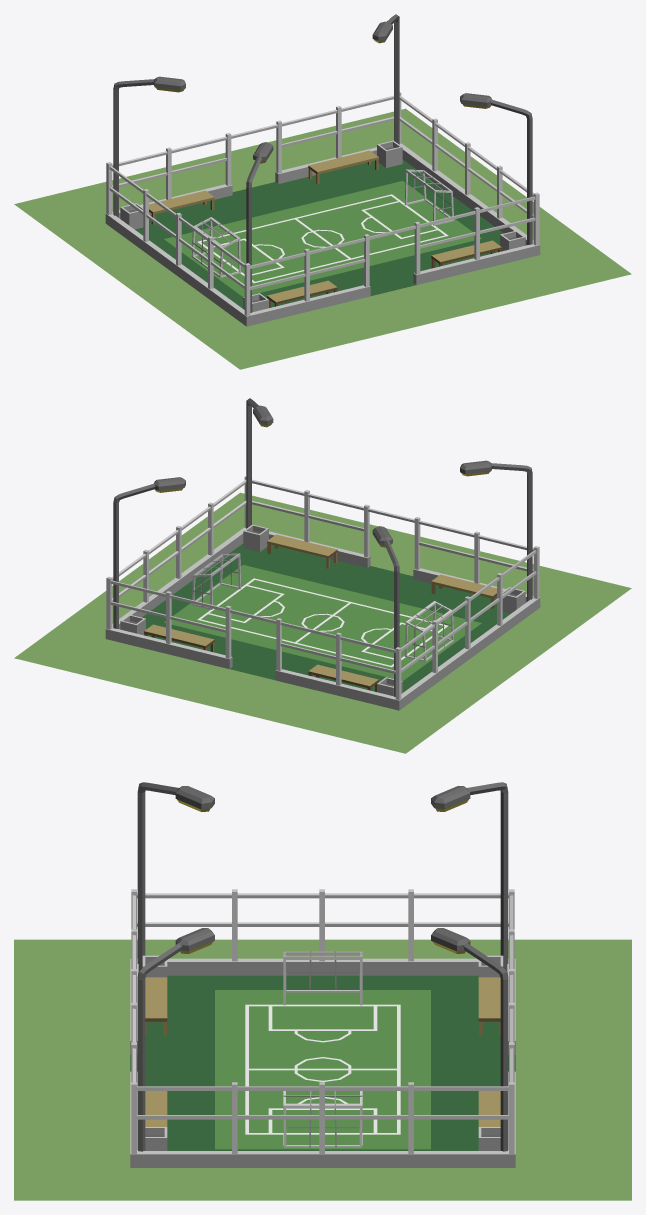
The model's file is landscape_entertainment_008.glb.
3 renders of one model, top to bottom at view 1: azimuth 30°, elevation 25°; view 2: azimuth 150°, elevation 25°; view 3: azimuth 270°, elevation 25°, orthographic. The views are drawn at different scales.
Visible parts, largest first — view 1: landscape_entertainment_008; view 2: landscape_entertainment_008; view 3: landscape_entertainment_008.
Boxes of the visible parts, box(x1,y1,x2,y2) form: landscape_entertainment_008: box(14, 14, 631, 369); landscape_entertainment_008: box(14, 398, 631, 753); landscape_entertainment_008: box(14, 782, 631, 1200).
Bounding box in the file's own units: 16 × 6.16 × 16.
Materials: 1 (1 with a texture image).
